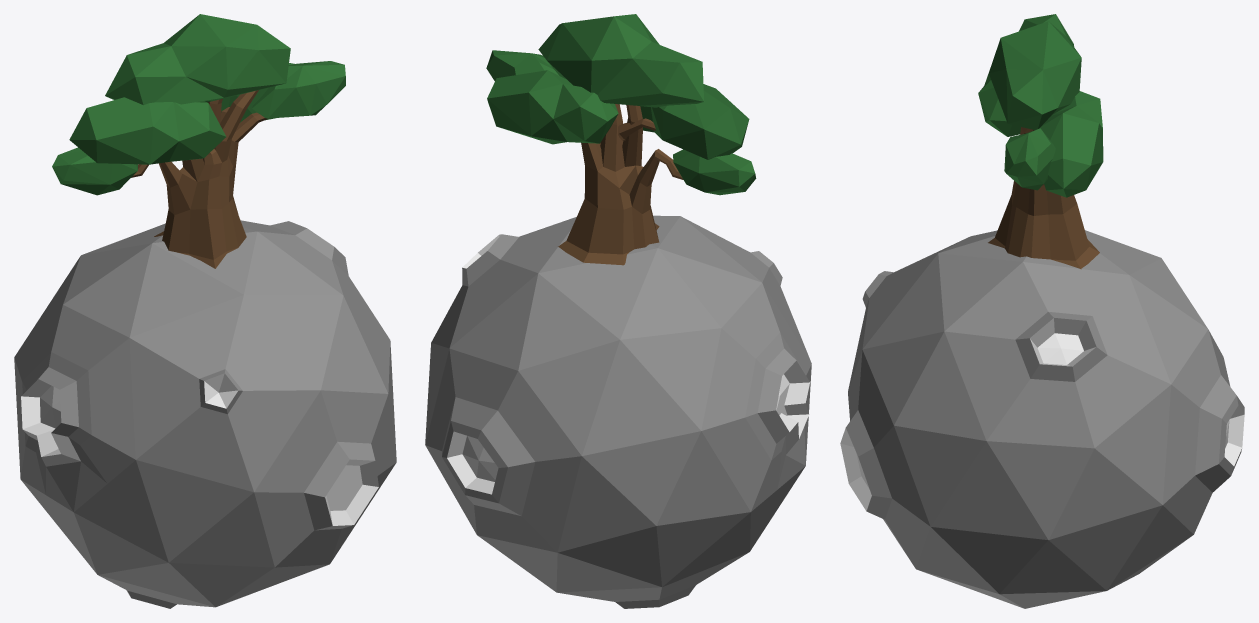
The model's file is baobab.glb.
3 views of the same model, side by side, from view 1: azimuth 30°, elevation 25°; view 2: azimuth 150°, elevation 25°; view 3: azimuth 270°, elevation 25° (orthographic).
Parts seen in each view (by area): view 1: moon, tree-baobab; view 2: moon, tree-baobab; view 3: moon, tree-baobab.
Part boxes in pixels (left/top/right/bottom): moon: left=14, top=220, right=396, bottom=608; tree-baobab: left=52, top=14, right=345, bottom=268; moon: left=425, top=215, right=811, bottom=608; tree-baobab: left=486, top=14, right=756, bottom=265; moon: left=840, top=230, right=1244, bottom=608; tree-baobab: left=978, top=14, right=1103, bottom=269.
Size of the model in its own units: 9.98 by 16.11 by 10.19.
3 materials, 1 textured.
